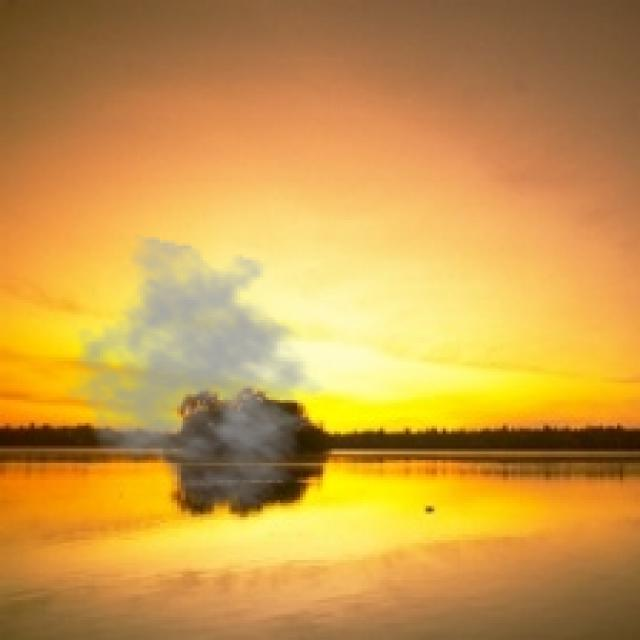smoke: (63, 234, 337, 512)
